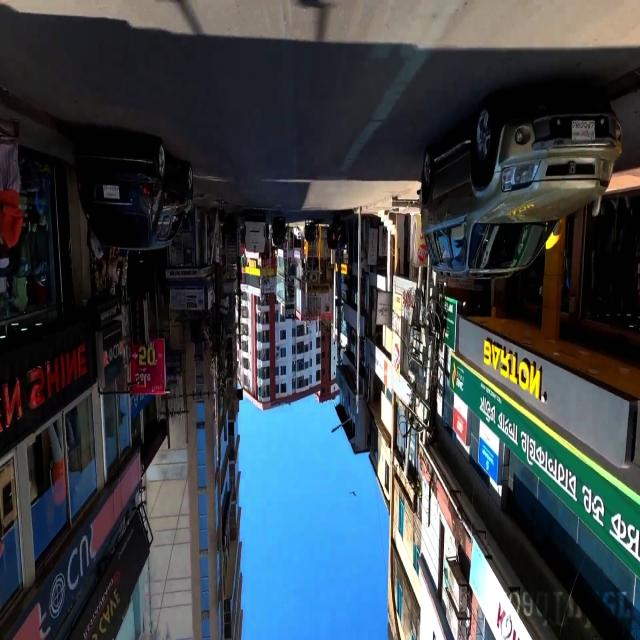black: (74, 144, 198, 255)
